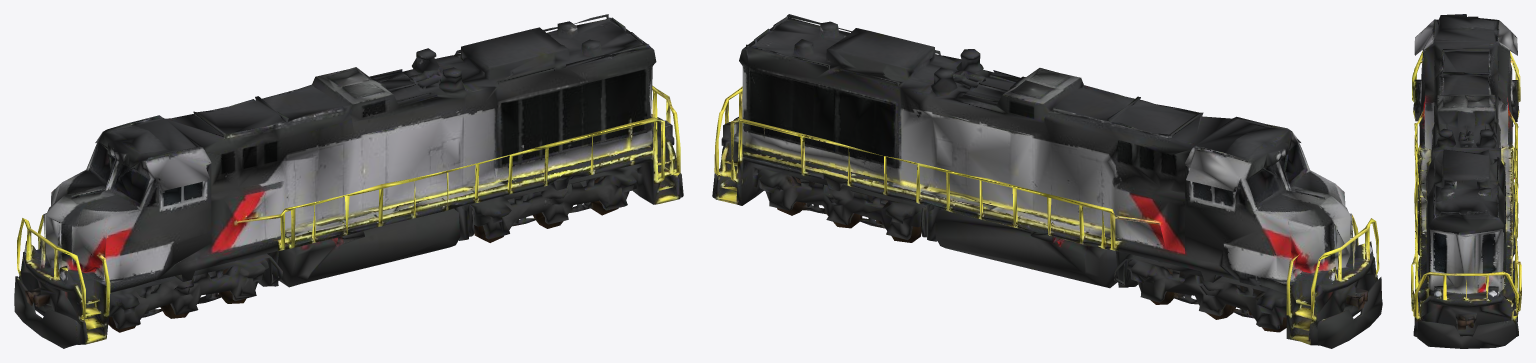
File: locomotora.glb
3 renders of one model, left to right at view 1: azimuth 30°, elevation 25°; view 2: azimuth 150°, elevation 25°; view 3: azimuth 270°, elevation 25°, orthographic. The views are drawn at different scales.
Bounding box in the file's own units: 16.49 × 4.4 × 3.22.
1 material, 1 textured.
